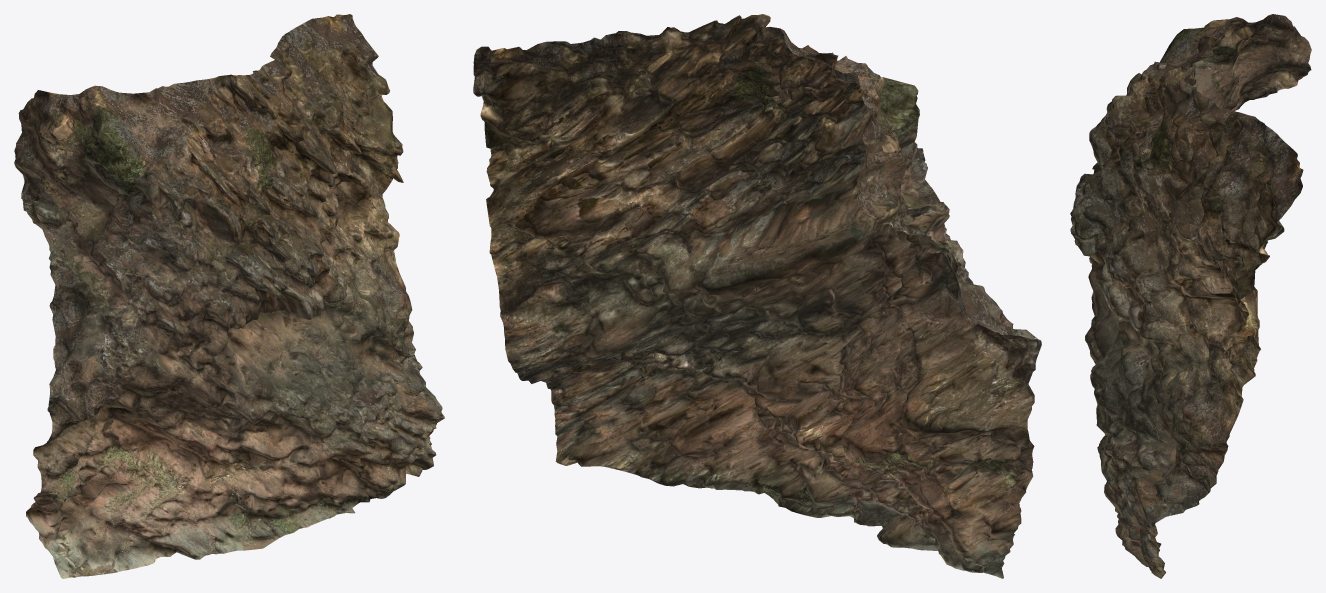
Rendered from mountainside.glb.
The picture shows the model from 3 angles, left to right: view 1: azimuth 30°, elevation 25°; view 2: azimuth 150°, elevation 25°; view 3: azimuth 270°, elevation 25°; orthographic projection. The views are drawn at different scales.
Visible parts, largest first — view 1: mountainside; view 2: mountainside; view 3: mountainside.
Boxes of the visible parts, x1,y1,x2,y2 form: mountainside: (14,14,444,578); mountainside: (473,14,1041,578); mountainside: (1070,14,1311,578).
Size of the model in its own units: 10.21 by 10.52 by 5.25.
1 material, 1 textured.
